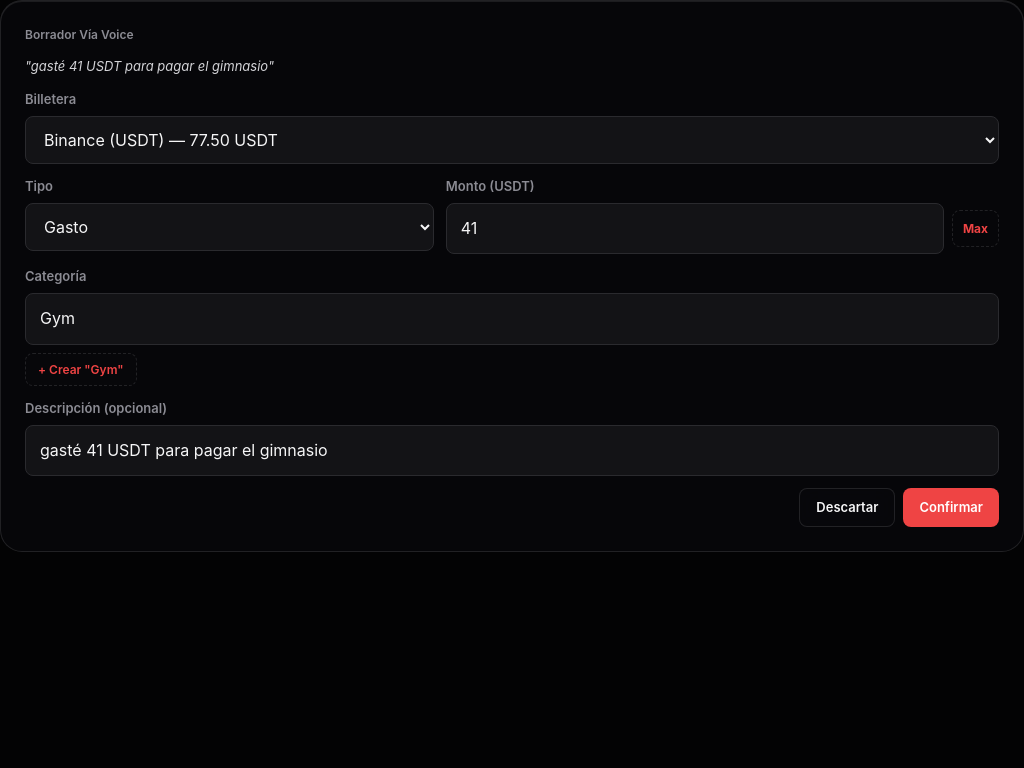
Test: DraftReviewCard › el boton Max carga el saldo de la wallet seleccionada como monto
Click the button with class "max-amount-trigger" at (975, 228), box [952,210,999,247]
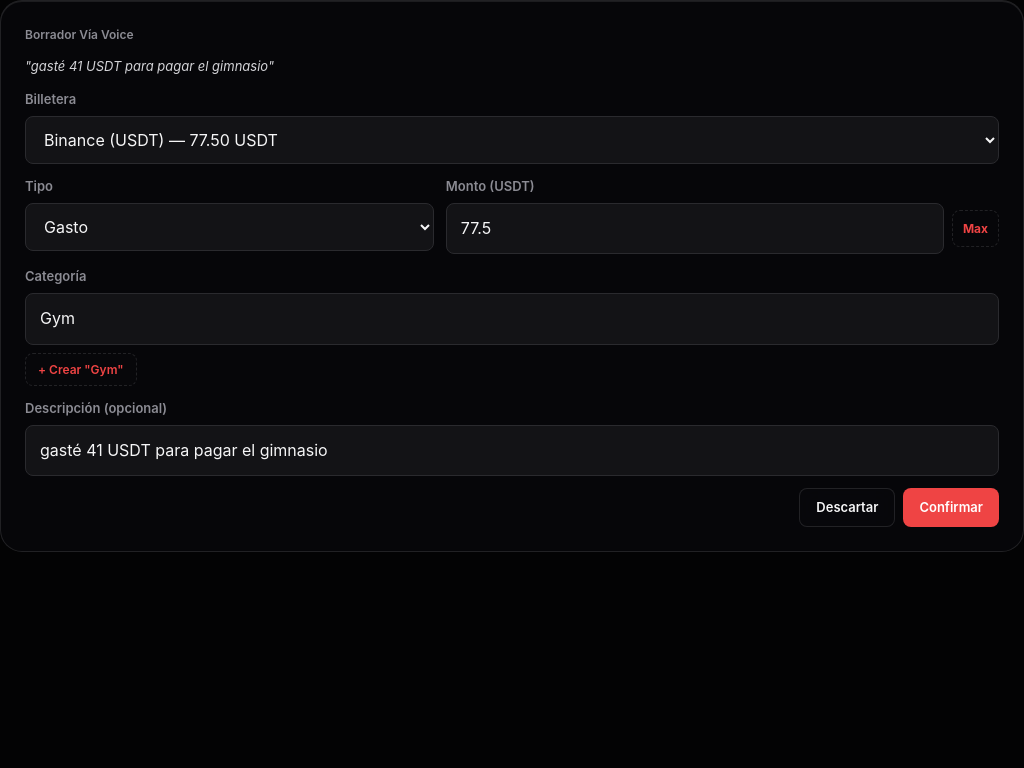
Now the number field labelled "Monto (USDT) Max" holds "77.5", box [446,203,944,254]
